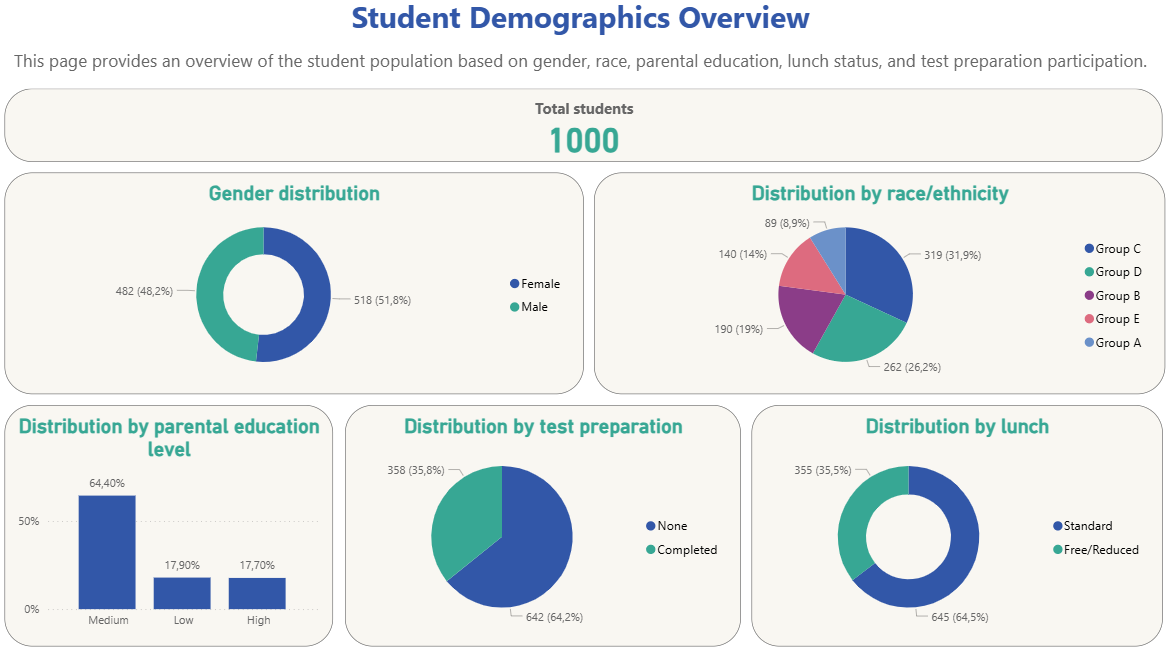

What the dashboard file says about the page in this screenshot:
{"tool":"powerbi","page":{"name":"Basic characteristics ","canvas":[1280,720],"ordinal":0},"visuals":[{"type":"donutChart","title":"Gender distribution","fields":{"Category":["StudentsPerformance1.gender"],"Y":["StudentsPerformance1.TotalStudents"]},"box":[17.8,195.9,625,239.6],"z":0},{"type":"pieChart","title":"Distribution by race/ethnicity","fields":{"Y":["StudentsPerformance1.TotalStudents"],"Category":["StudentsPerformance1.race/ethnicity"]},"box":[654.2,195.9,616.9,239.6],"z":1000},{"type":"columnChart","title":"Distribution by parental education level","fields":{"Category":["StudentsPerformance1.parental_level_education_grouped"],"Y":["StudentsPerformance1.TotalStudents"]},"box":[17.8,446.9,354.6,260.7],"z":2000},{"type":"donutChart","title":"Distribution by lunch","fields":{"Category":["StudentsPerformance1.lunch"],"Y":["StudentsPerformance1.TotalStudents"]},"box":[824.2,446.9,443.7,260.7],"z":3000},{"type":"pieChart","title":"Distribution by test preparation ","fields":{"Category":["StudentsPerformance1.test preparation course"],"Y":["StudentsPerformance1.TotalStudents"]},"box":[385.4,446.9,427.5,260.7],"z":4000},{"type":"card","title":"Total students","fields":{"Values":["StudentsPerformance1.TotalStudents"]},"box":[17.8,105.2,1250,79.3],"z":5000},{"type":"textbox","box":[0,0,1279.2,56.7],"z":6000},{"type":"textbox","box":[0,56.7,1279.2,48.6],"z":7000}]}

Visuals, with their boxes in screenshot pixels (x1, y1, x2, y2), scaled from the page's 1280x720 canvas onto the 1168x652 screenshot:
"Gender distribution" donutChart: 16/177/587/394
"Distribution by race/ethnicity" pieChart: 597/177/1160/394
"Distribution by parental education level" columnChart: 16/405/340/641
"Distribution by lunch" donutChart: 752/405/1157/641
"Distribution by test preparation " pieChart: 352/405/742/641
"Total students" card: 16/95/1157/167
textbox: 0/0/1167/51
textbox: 0/51/1167/95
